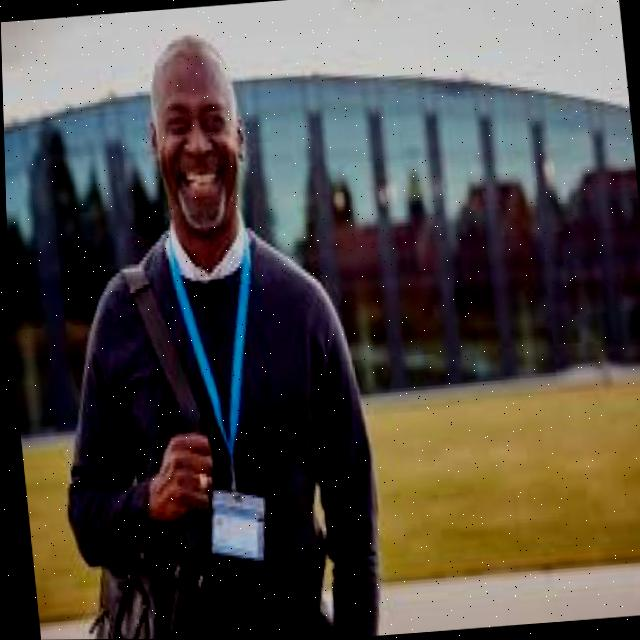id_card: (152, 237, 281, 570)
